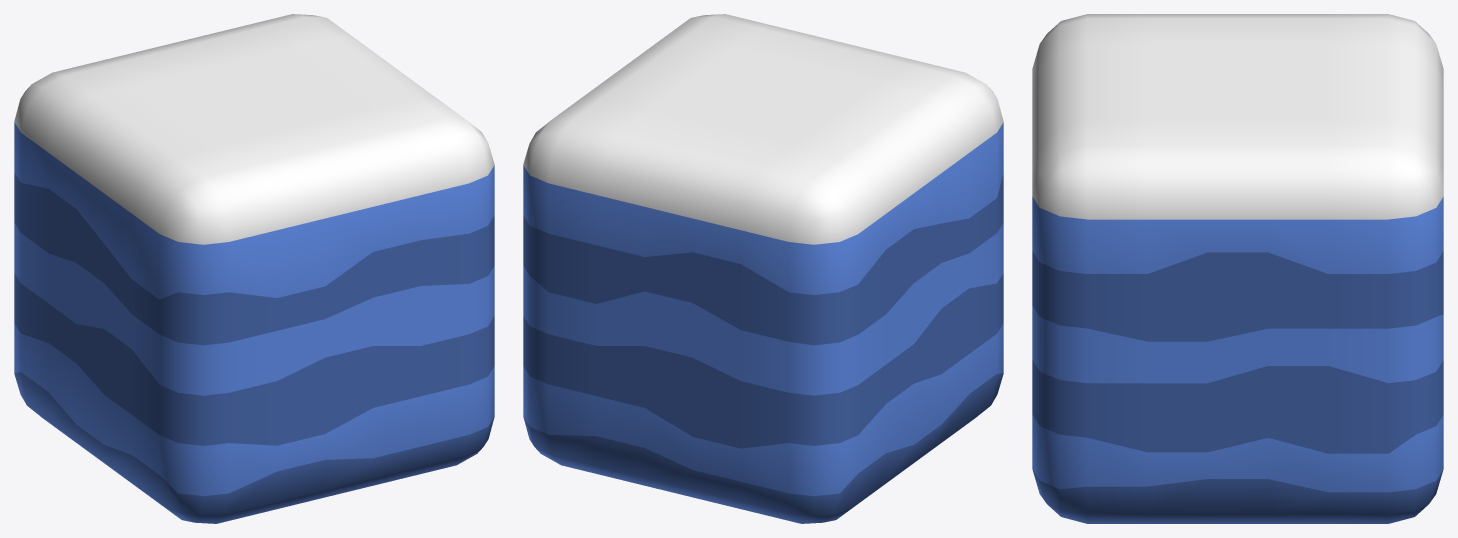
The model's file is Stone013.fbx.
3 renders of one model, left to right at view 1: azimuth 30°, elevation 25°; view 2: azimuth 150°, elevation 25°; view 3: azimuth 270°, elevation 25°, orthographic. The views are drawn at different scales.
Parts seen in each view (by area): view 1: Stone013; view 2: Stone013; view 3: Stone013.
Boxes of the visible parts, x1,y1,x2,y2 form: Stone013: [14, 14, 494, 523]; Stone013: [523, 14, 1003, 523]; Stone013: [1032, 14, 1443, 523].
Bounding box in the file's own units: 156 × 156 × 156.
